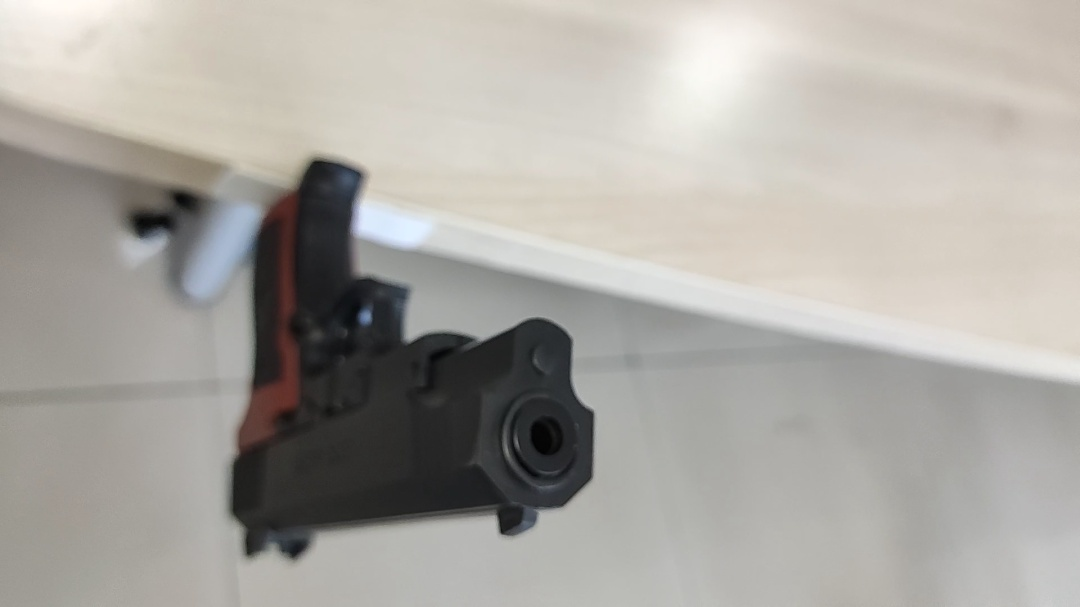gun: (229, 160, 596, 557)
